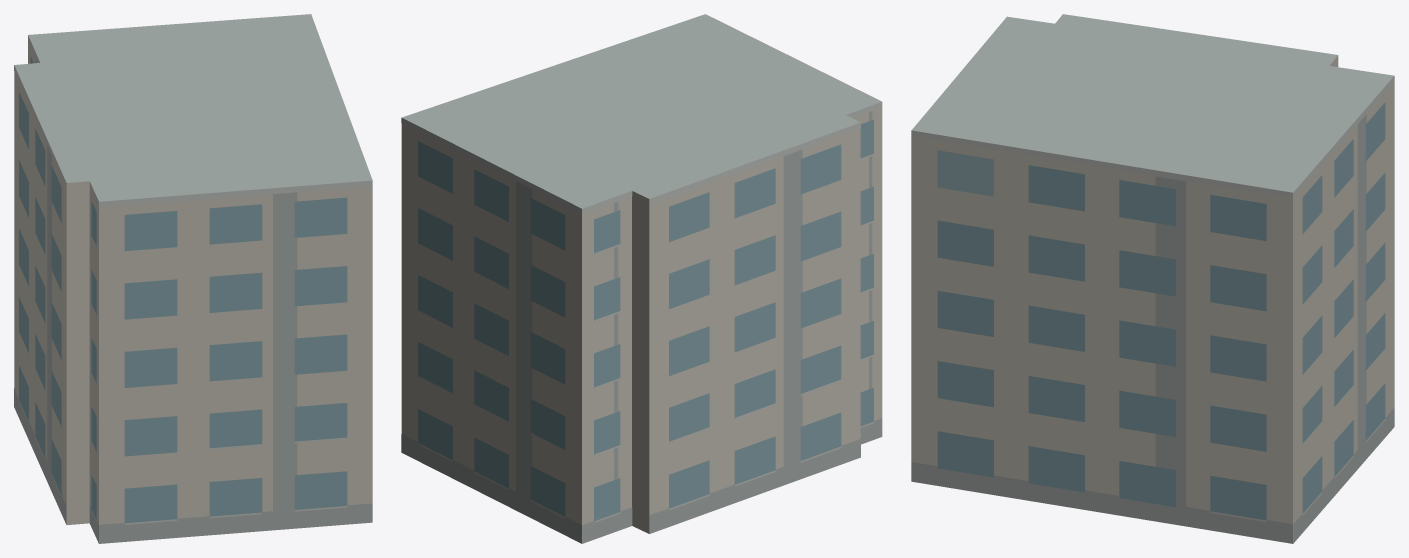
File: survey-upis-32888488.glb
3 views of the same model, side by side, from view 1: azimuth 30°, elevation 25°; view 2: azimuth 150°, elevation 25°; view 3: azimuth 270°, elevation 25° (orthographic). The views are drawn at different scales.
Visible parts, largest first — view 1: survey-upis-32888488.tmp; view 2: survey-upis-32888488.tmp; view 3: survey-upis-32888488.tmp.
Part boxes in pixels (x1=…): survey-upis-32888488.tmp: x1=14, y1=14, x2=372, y2=543; survey-upis-32888488.tmp: x1=401, y1=14, x2=882, y2=543; survey-upis-32888488.tmp: x1=911, y1=14, x2=1394, y2=543.
Bounding box in the file's own units: 15.4 × 14.1 × 17.59.
